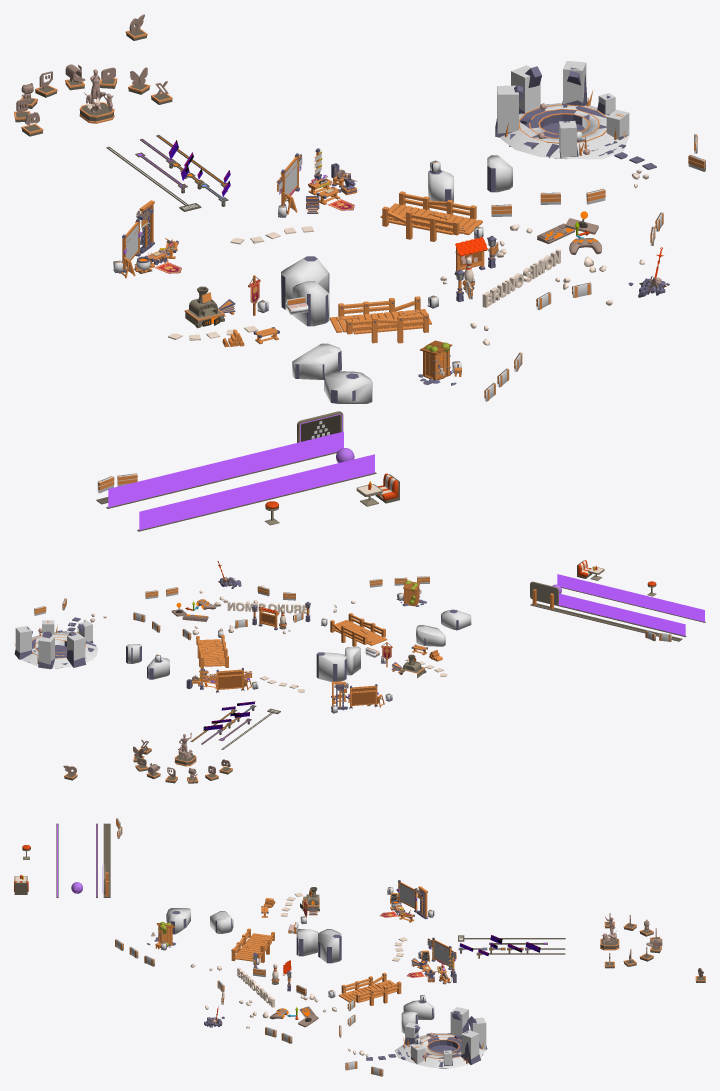
Rendered from areas.glb.
3 views of the same model, one above another, from view 1: azimuth 30°, elevation 25°; view 2: azimuth 150°, elevation 25°; view 3: azimuth 270°, elevation 25° (orthographic). The views are drawn at different scales.
Visible parts, largest first — view 1: refBowlingBumpers, bridge.001, bridge.002, trimesh.001, Cube.159, Cylinder.021, hull.011, hull.012, hull.015, hull.016, Cube.165, Cube.172 (+3 smaller); view 2: refBowlingBumpers, bridge.002, bridge.001, trimesh.001, hull.015, Cube.159, rail, hull.012, Cube.172, hull.011, Plane.038, Cube.177 (+5 smaller); view 3: bridge.001, bridge.002, trimesh.001, hull.015, Cube.159, Cylinder.021, Cube.172, rail, hull.016, hull.012, hull.011, Cube.146.
Boxes of the visible parts, x1=… form: refBowlingBumpers: x1=108, y1=431, x2=374, y2=530; bridge.001: x1=380, y1=191, x2=482, y2=241; bridge.002: x1=329, y1=296, x2=431, y2=343; trimesh.001: x1=500, y1=103, x2=629, y2=159; Cube.159: x1=14, y1=78, x2=172, y2=136; Cylinder.021: x1=519, y1=106, x2=625, y2=155; hull.011: x1=324, y1=371, x2=372, y2=403; hull.012: x1=292, y1=343, x2=341, y2=379; hull.015: x1=281, y1=257, x2=328, y2=309; hull.016: x1=292, y1=281, x2=329, y2=326; Cube.165: x1=497, y1=85, x2=518, y2=137; Cube.172: x1=495, y1=66, x2=610, y2=157; refBowlingBumpers: x1=557, y1=574, x2=704, y2=635; bridge.002: x1=330, y1=613, x2=387, y2=646; bridge.001: x1=196, y1=635, x2=228, y2=668; trimesh.001: x1=22, y1=631, x2=97, y2=668; hull.015: x1=318, y1=652, x2=346, y2=681; Cube.159: x1=133, y1=747, x2=232, y2=783; rail: x1=530, y1=603, x2=682, y2=641; hull.012: x1=416, y1=625, x2=445, y2=646; Cube.172: x1=14, y1=624, x2=93, y2=668; hull.011: x1=441, y1=609, x2=471, y2=629; Plane.038: x1=536, y1=587, x2=705, y2=636; Cube.177: x1=530, y1=581, x2=558, y2=604; bridge.001: x1=338, y1=972, x2=401, y2=1005; bridge.002: x1=231, y1=928, x2=274, y2=963; trimesh.001: x1=394, y1=1033, x2=485, y2=1068; hull.015: x1=318, y1=929, x2=341, y2=963; Cube.159: x1=604, y1=921, x2=661, y2=968; Cylinder.021: x1=397, y1=1035, x2=461, y2=1059; Cube.172: x1=405, y1=1011, x2=487, y2=1066; rail: x1=103, y1=823, x2=110, y2=897; hull.016: x1=296, y1=929, x2=318, y2=956; hull.012: x1=210, y1=911, x2=233, y2=933; hull.011: x1=166, y1=908, x2=190, y2=934; Cube.146: x1=461, y1=1030, x2=479, y2=1064.
Bounding box in the file's own units: 98.86 × 8.2 × 115.
Materials: 39 (11 with a texture image).
